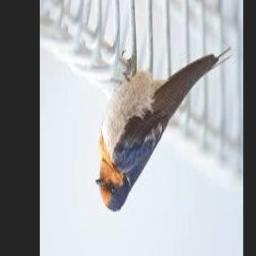Swallow: (95, 46, 232, 212)
